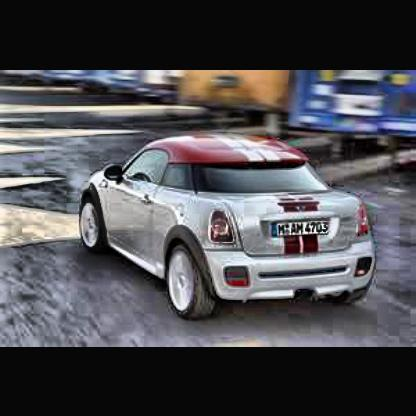MINI Cooper Roadster Convertible 2012: (80, 134, 379, 323)
